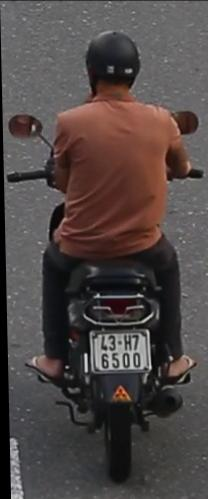LP: (86, 324, 152, 374)
helmet: (81, 27, 144, 107)
